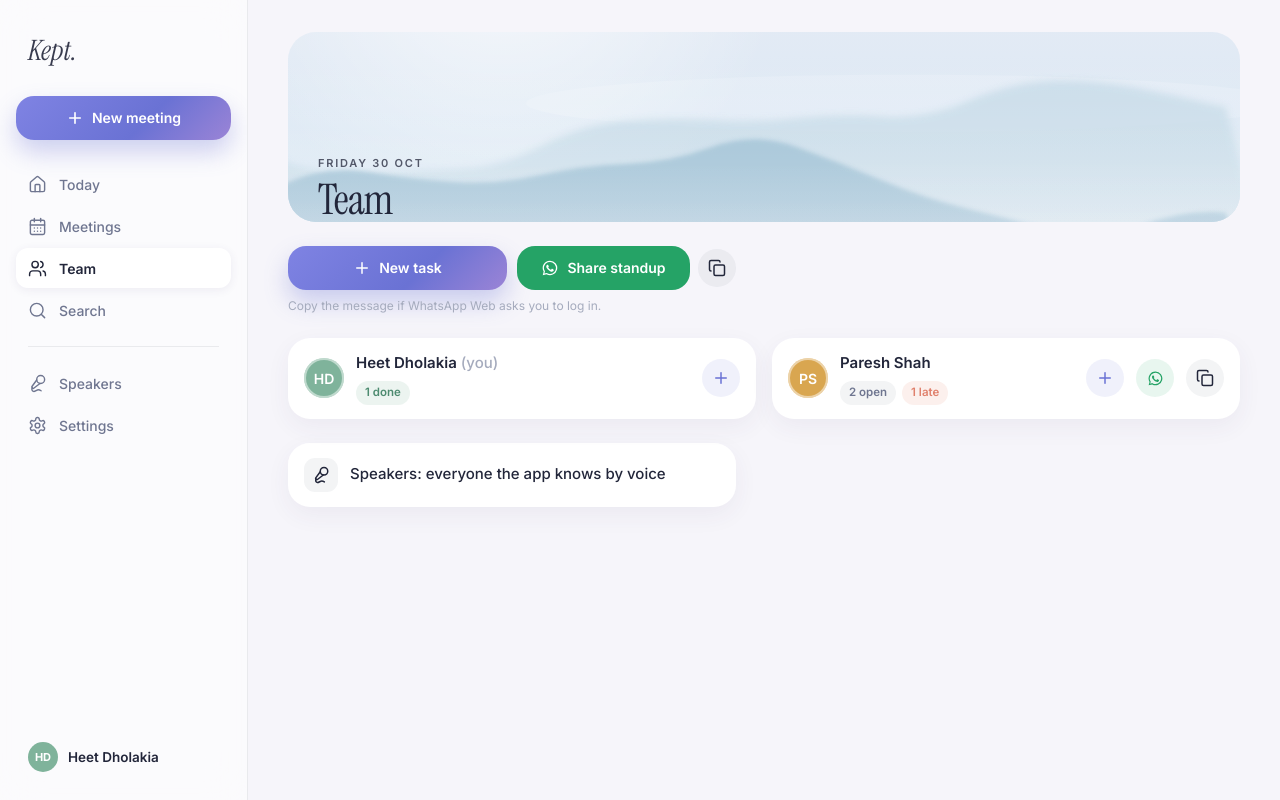
Team › shows each person’s open, late and done work, with me first
Check: the text "Paresh Shah" is shown, box x1=840 y1=353 x2=931 y2=372
What coordinates should you click on to do the following:
click the button "PS Paresh Shah 2 open 1 late"
I would click on:
 (931, 378)
Its box is x1=788 y1=352 x2=1074 y2=404.
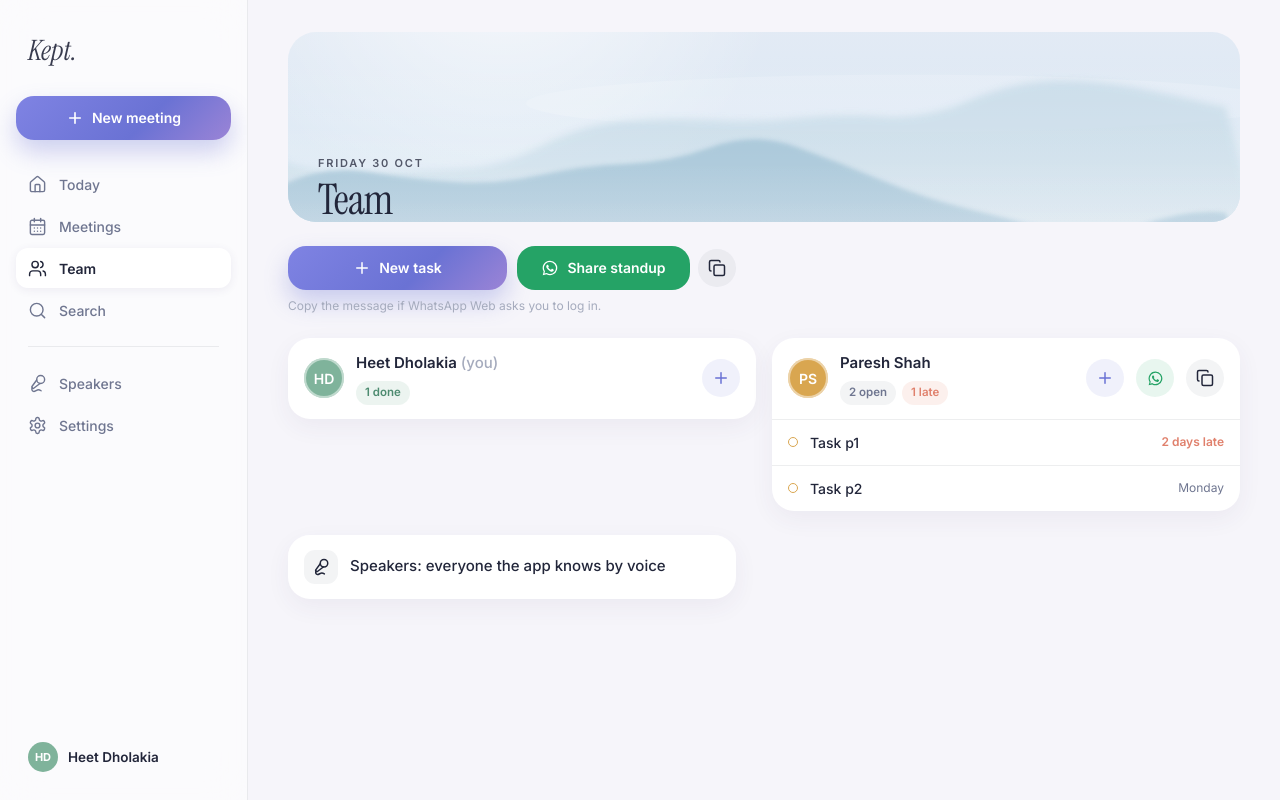
Check: the text "Task p1" is shown, box x1=810 y1=434 x2=859 y2=450
